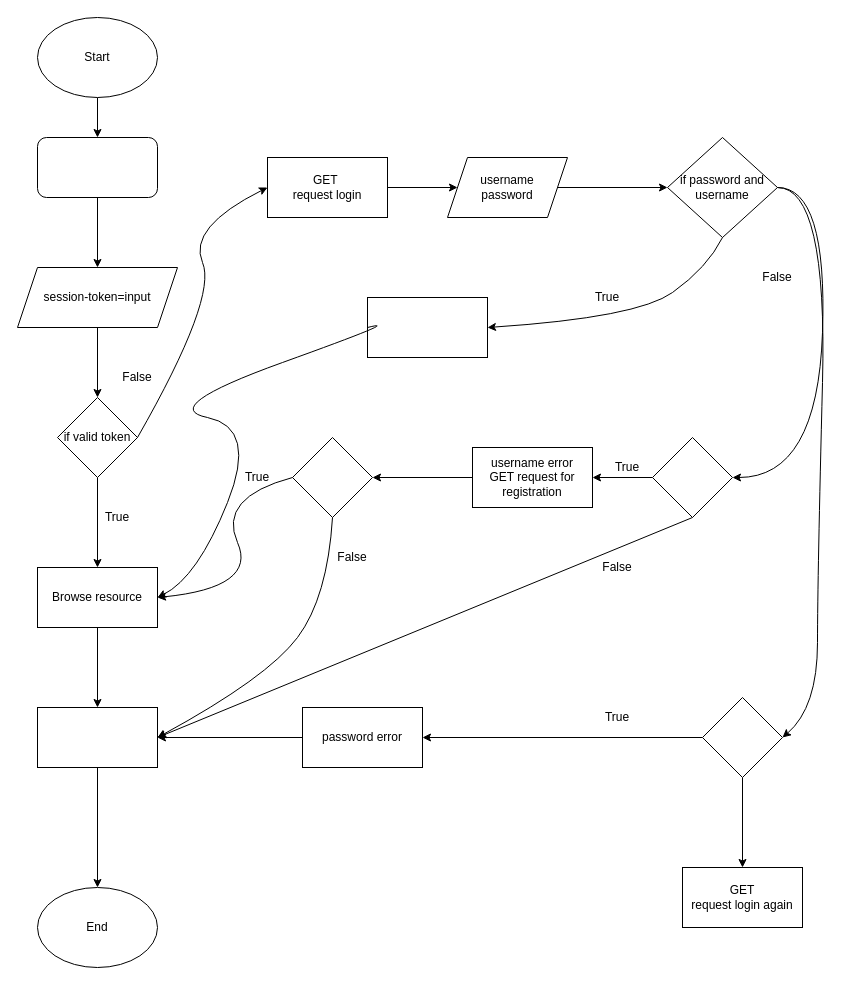
This 845x985 diagram has some shape labels left out. Here are the shapes that lost their labels. From the top down, the centre of each, then its label:
At (97,167): "POST request".
At (427,327): "create session and save session token to user and as a cookie".
At (332,477): "if GET".
At (692,477): "if username doesn't exist".
At (97,737): "Response".
At (742,737): "if username".
